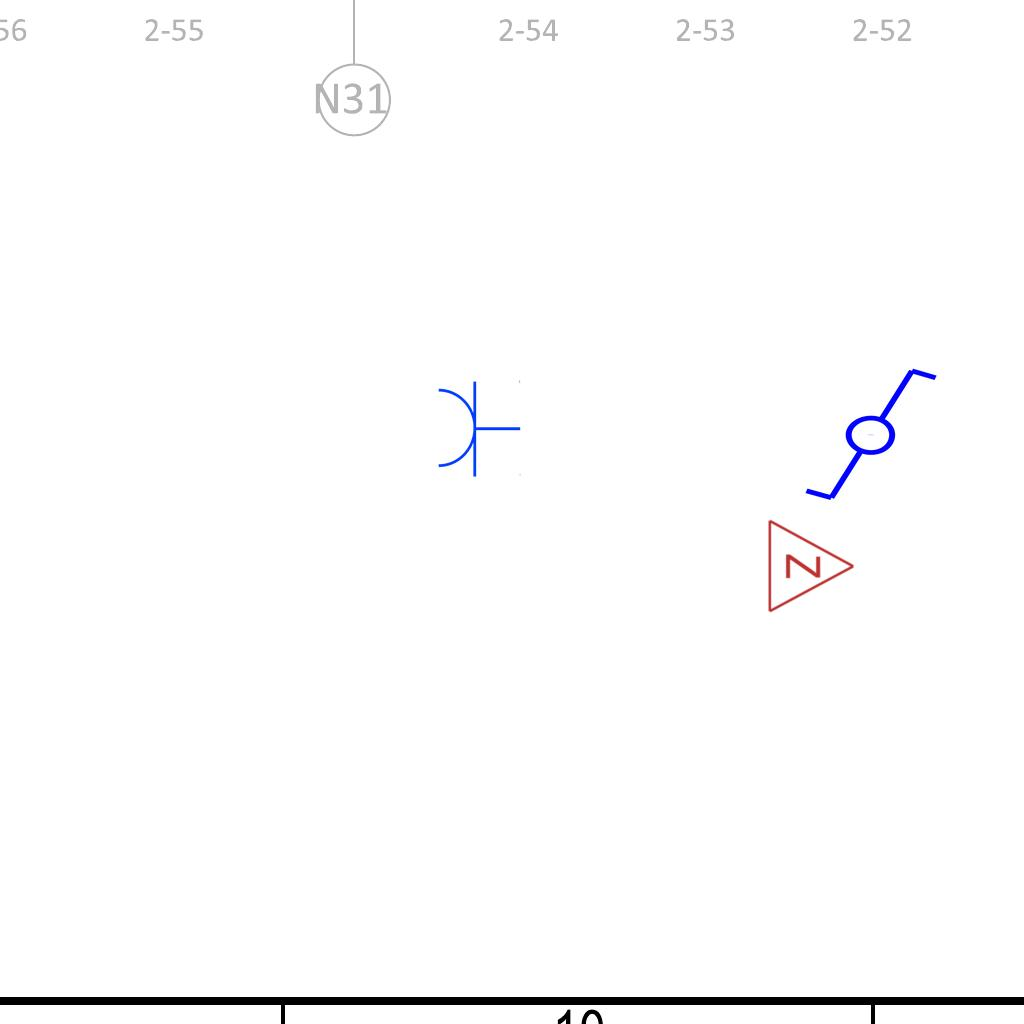Schukosteckdose_einfach: (434, 378, 521, 478)
Wechselschalter: (784, 361, 941, 505)
Zimmersignalleuchte: (761, 516, 861, 614)
